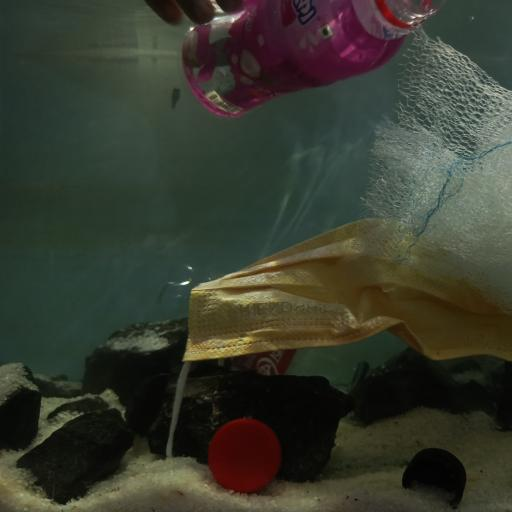bottle_cap: (206, 418, 284, 494), (401, 445, 466, 509)
mask: (172, 214, 512, 379)
net: (355, 24, 512, 314)
plastic_bottle: (180, 2, 441, 117), (154, 257, 372, 386)
